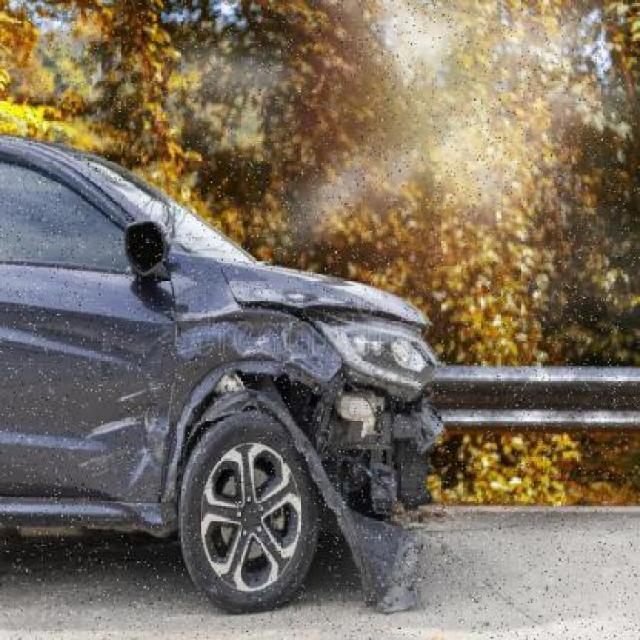doorouter-dent: (0, 271, 167, 505)
fender-dent: (168, 275, 327, 411)
front-bumper-dent: (331, 302, 467, 512)
